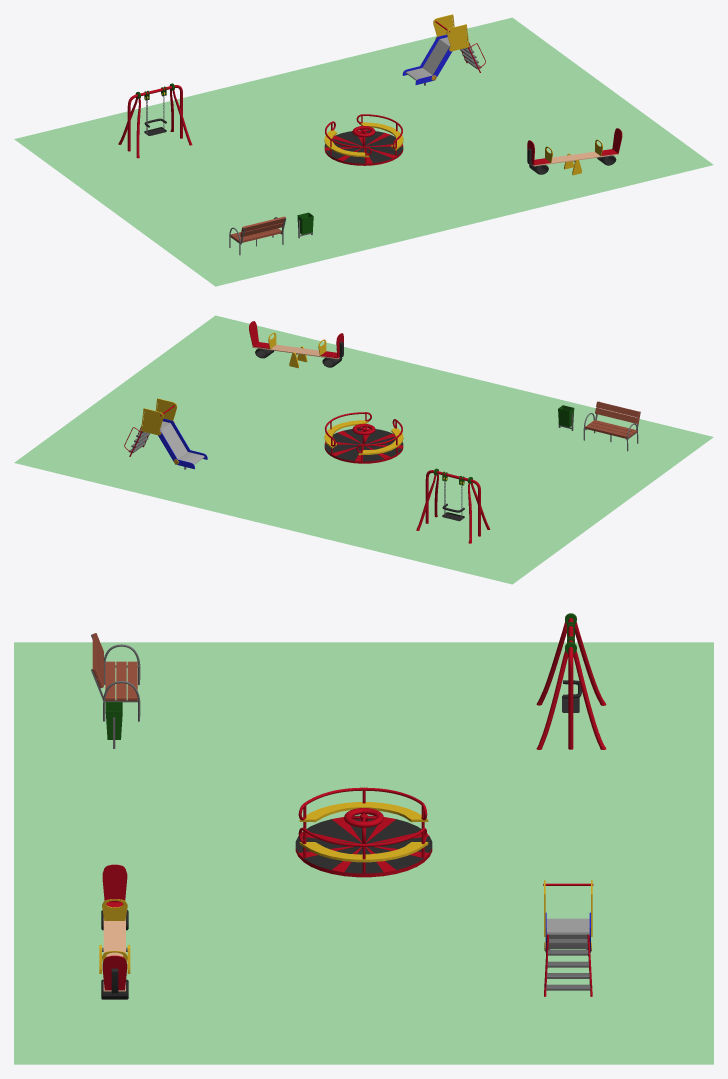
File: Площадка_2.fbx
The picture shows the model from 3 angles, top to bottom: view 1: azimuth 30°, elevation 25°; view 2: azimuth 150°, elevation 25°; view 3: azimuth 270°, elevation 25°; orthographic projection. The views are drawn at different scales.
Parts seen in each view (by area): view 1: Плоскость, Карусель, Куб.007, Горка, КриваяБезье.001, Цилиндр.014, Куб.006, Качели, Куб.003; view 2: Плоскость, Карусель, Куб.007, Горка, Цилиндр.014, КриваяБезье.001, Куб.003, Куб.001, Куб.006, Качели; view 3: Плоскость, Карусель, Цилиндр.014, КриваяБезье.001, Куб.016, Куб.001, КриваяБезье.004, Горка, Фанера, Качели.
Part boxes in pixels (x1,y1,x2,y2): Плоскость: (14,17,713,286); Карусель: (324,130,403,165); Куб.007: (433,14,469,51); Горка: (406,37,450,80); КриваяБезье.001: (118,89,192,158); Цилиндр.014: (324,122,403,157); Куб.006: (402,34,452,84); Качели: (127,85,182,151); Куб.003: (240,216,285,236); Плоскость: (14,315,713,584); Карусель: (324,428,403,463); Куб.007: (141,398,177,435); Горка: (160,421,204,464); Цилиндр.014: (324,420,403,455); КриваяБезье.001: (416,474,490,543); Куб.003: (595,401,640,423); Куб.001: (585,420,636,438); Куб.006: (158,418,207,469); Качели: (425,470,480,536); Плоскость: (14,642,713,1064); Карусель: (295,815,432,877); Цилиндр.014: (299,802,428,862); КриваяБезье.001: (536,621,606,749); Куб.016: (102,864,127,990); Куб.001: (105,661,137,700); КриваяБезье.004: (298,787,427,846); Горка: (546,918,589,949); Фанера: (103,917,125,991); Качели: (568,618,573,749).
Bounding box in the file's own units: 1000 × 110 × 700.
